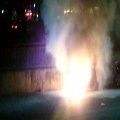fire: (56, 54, 91, 101)
